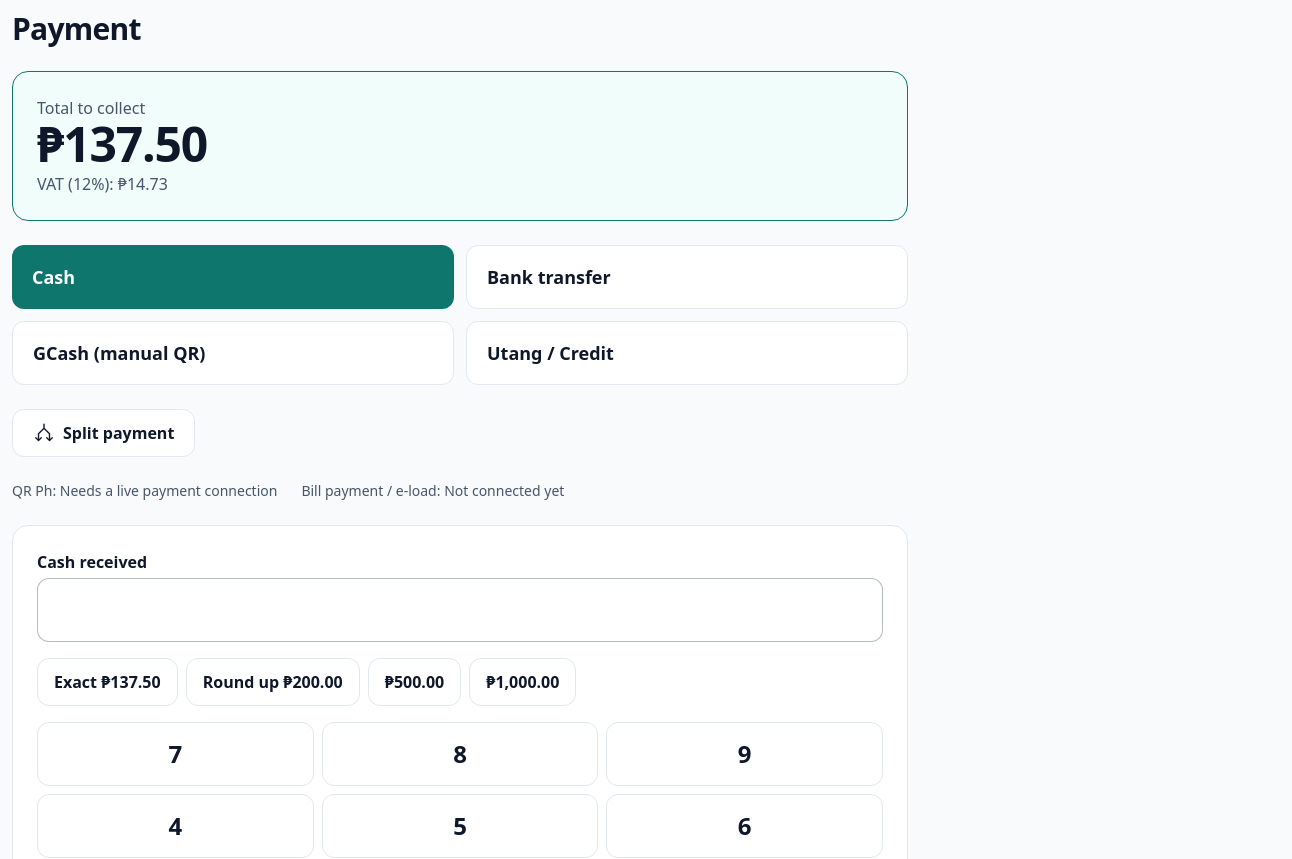
Test: PaymentPage › only allows confirming cash once the tender covers the total, and previews the change
Step 1. Type "100" into the field labelled "Cash received" → coordinates (460, 610), box x1=37 y1=578 x2=883 y2=642
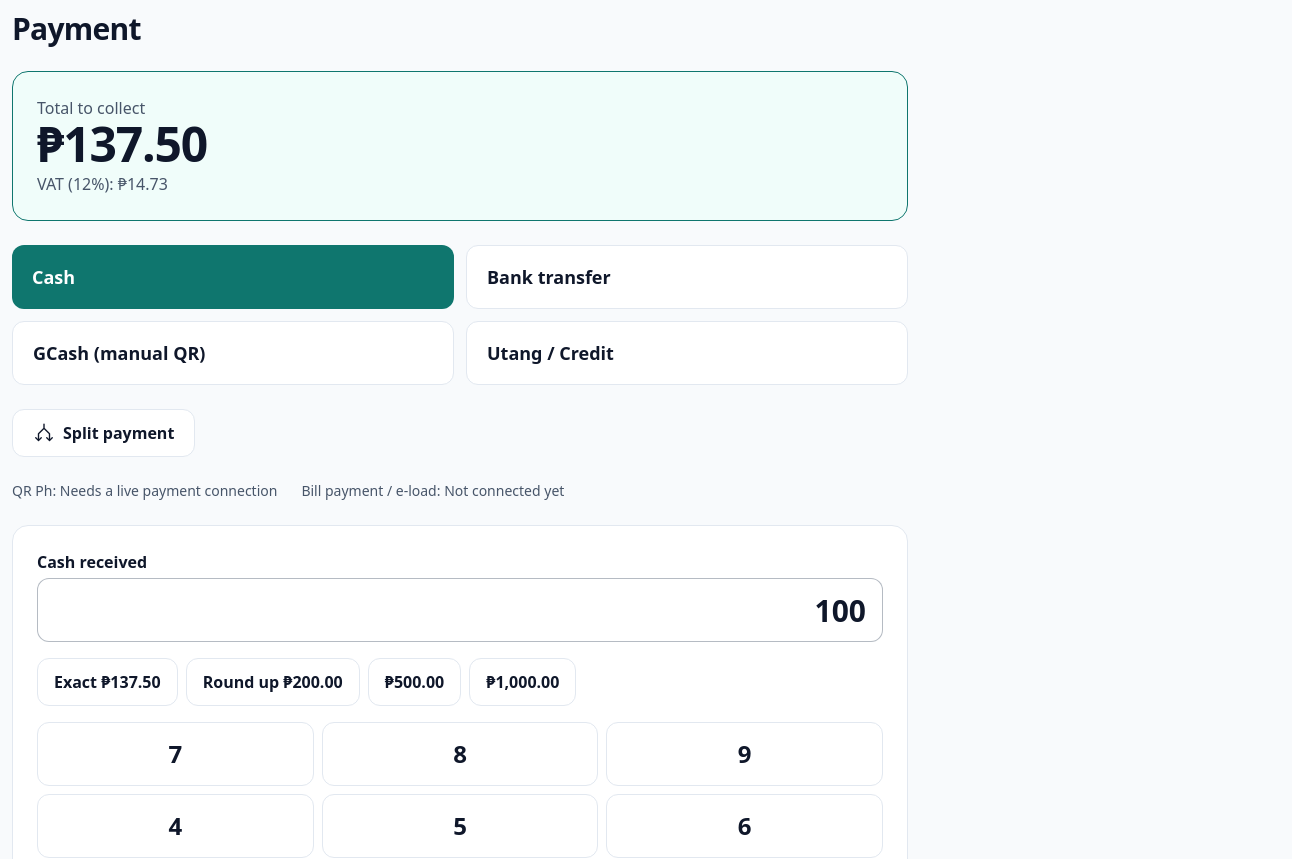
Step 2. Replace the text in the field labelled "Cash received" with "200" → coordinates (460, 610), box x1=37 y1=578 x2=883 y2=642
(page scrolled)
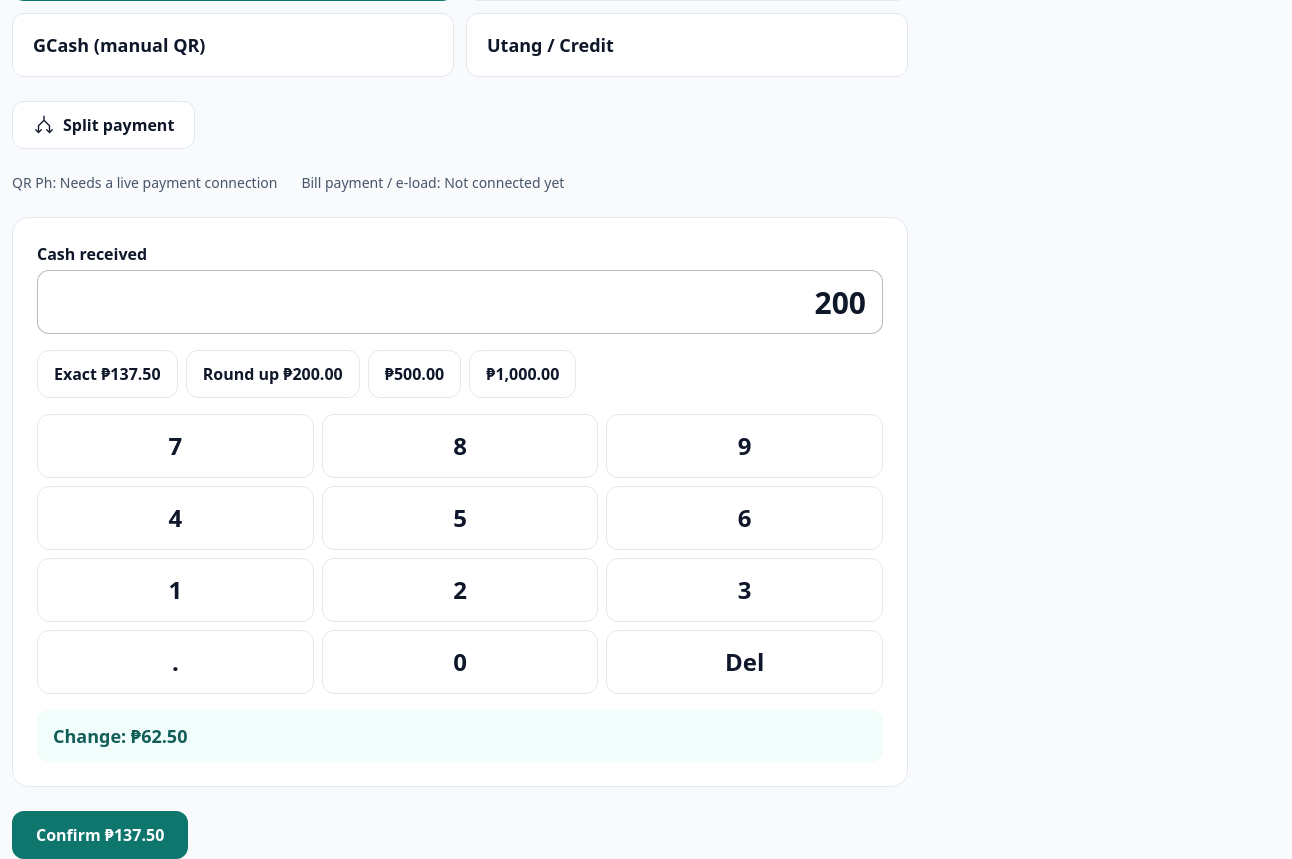
Check: the button "Confirm ₱137.50" is enabled, box x1=12 y1=811 x2=188 y2=858
Check: the text "Change: ₱62.50" is shown, box x1=37 y1=710 x2=883 y2=762
